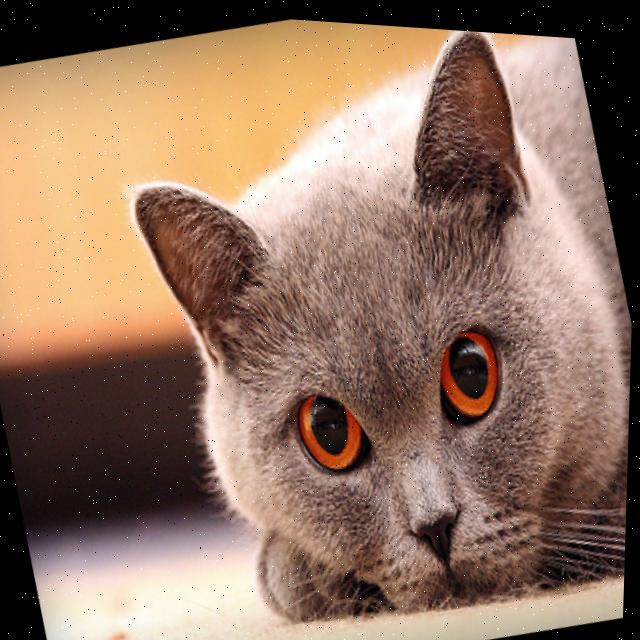British Shorthair: (85, 5, 640, 640)
